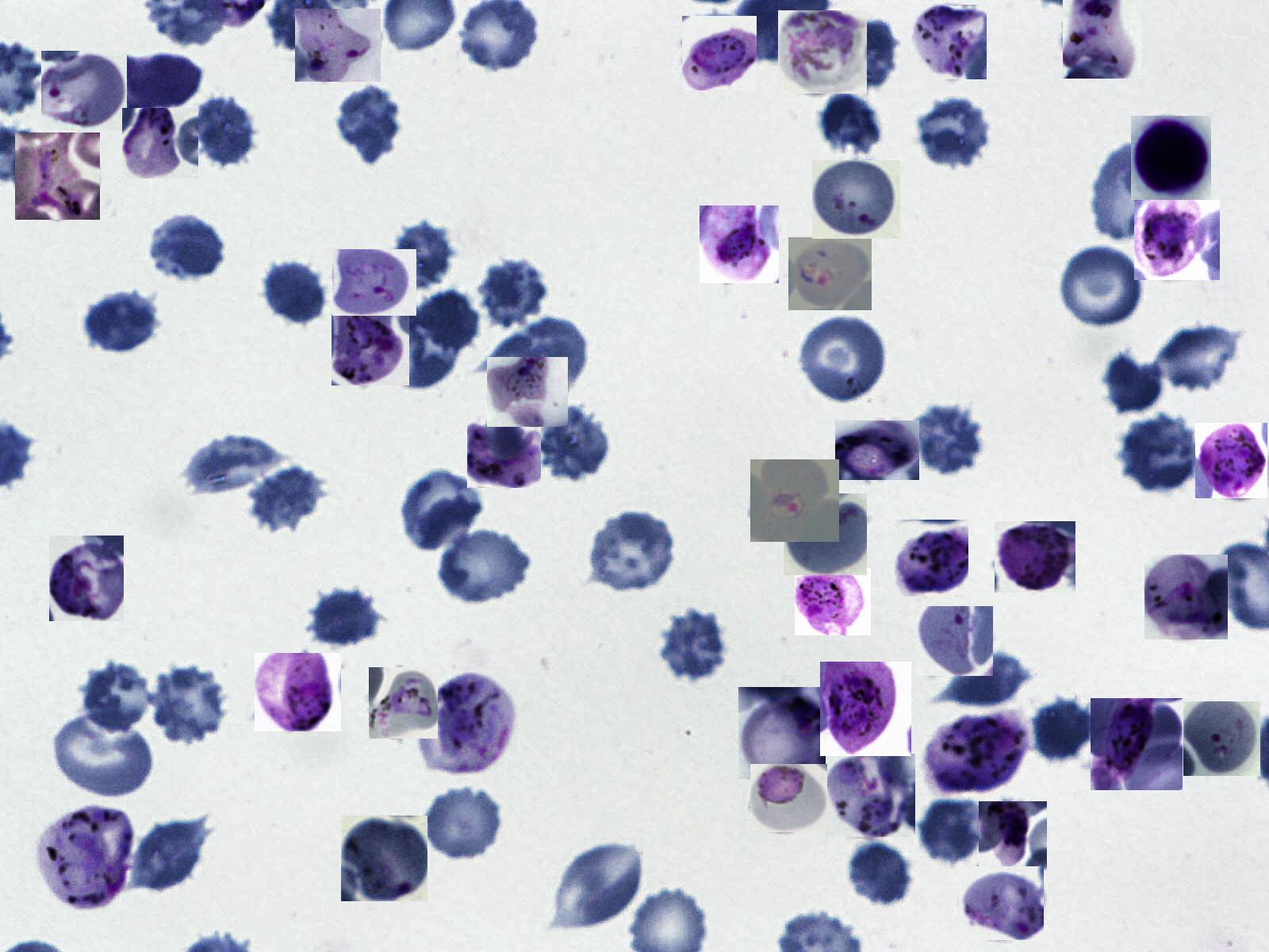Infected: (420, 674, 517, 776), (40, 804, 131, 909), (922, 713, 1031, 797), (738, 687, 832, 779), (820, 662, 911, 757), (1091, 698, 1183, 790), (15, 132, 100, 220), (778, 10, 867, 94), (750, 460, 839, 543), (826, 754, 915, 837), (341, 816, 427, 901), (1144, 555, 1228, 639), (812, 160, 900, 239), (1134, 200, 1220, 280), (41, 51, 127, 131), (784, 493, 867, 575), (1131, 116, 1211, 200), (255, 653, 341, 731), (49, 536, 124, 622), (959, 866, 1044, 940), (295, 9, 381, 82), (700, 205, 779, 283), (1063, 0, 1141, 79), (788, 237, 872, 310), (1183, 701, 1260, 776), (995, 521, 1075, 593), (487, 357, 568, 427), (332, 249, 416, 316), (895, 520, 968, 597), (682, 16, 757, 90), (467, 413, 541, 488), (332, 314, 409, 386), (913, 5, 987, 79), (1195, 423, 1267, 498), (916, 606, 993, 676), (123, 108, 199, 178), (750, 764, 827, 832), (795, 568, 871, 635), (835, 420, 919, 480), (369, 667, 438, 739), (979, 801, 1047, 870)
Uninfected: (49, 710, 155, 798), (1091, 141, 1173, 247), (799, 310, 889, 406), (554, 839, 648, 930), (493, 319, 587, 401), (586, 509, 678, 592), (1060, 243, 1146, 331), (436, 526, 530, 605), (397, 469, 483, 553), (1116, 413, 1201, 496), (380, 305, 461, 390), (182, 435, 289, 498), (145, 666, 230, 744), (1157, 322, 1244, 397), (144, 209, 228, 286), (247, 460, 328, 539), (534, 405, 611, 486), (77, 285, 161, 358), (913, 94, 992, 171), (652, 608, 732, 683), (905, 401, 987, 474), (931, 651, 1035, 708), (79, 661, 157, 735), (333, 83, 405, 163), (918, 794, 994, 869), (424, 786, 501, 860), (132, 817, 209, 891), (385, 220, 458, 294), (844, 838, 919, 910), (308, 583, 389, 648), (261, 256, 332, 329), (476, 258, 549, 329), (829, 17, 903, 86), (819, 89, 889, 159), (190, 96, 259, 166), (1033, 695, 1095, 766), (1102, 350, 1167, 415), (415, 289, 481, 353)
